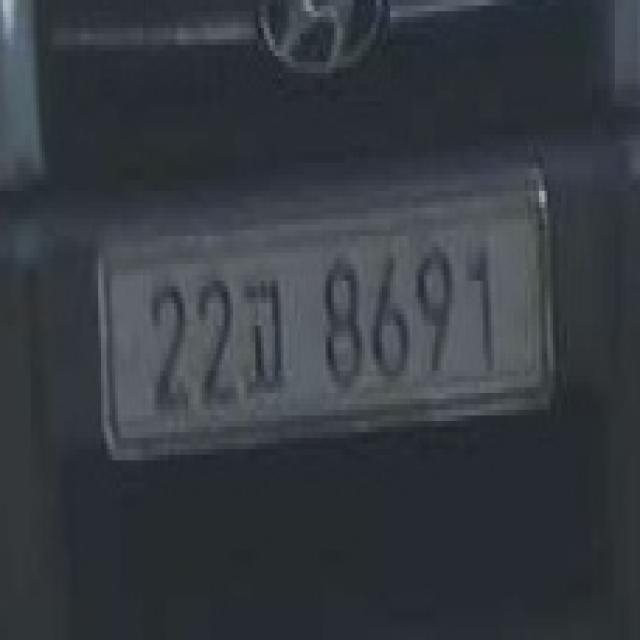1: (466, 225, 505, 388)
2: (193, 262, 245, 421), (143, 274, 194, 419)
6: (370, 245, 415, 394)
8: (317, 251, 369, 399)
9: (410, 237, 461, 390)
go: (241, 263, 298, 411)
license_plate: (106, 179, 550, 448)
